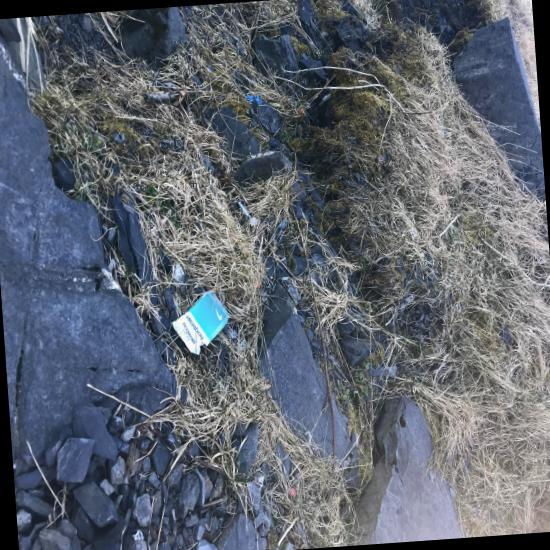Paper cup: (360, 101, 467, 311), (221, 113, 302, 227)
Paper straw: (407, 0, 428, 170)
Plastic lid: (359, 61, 469, 187), (210, 62, 299, 134)
